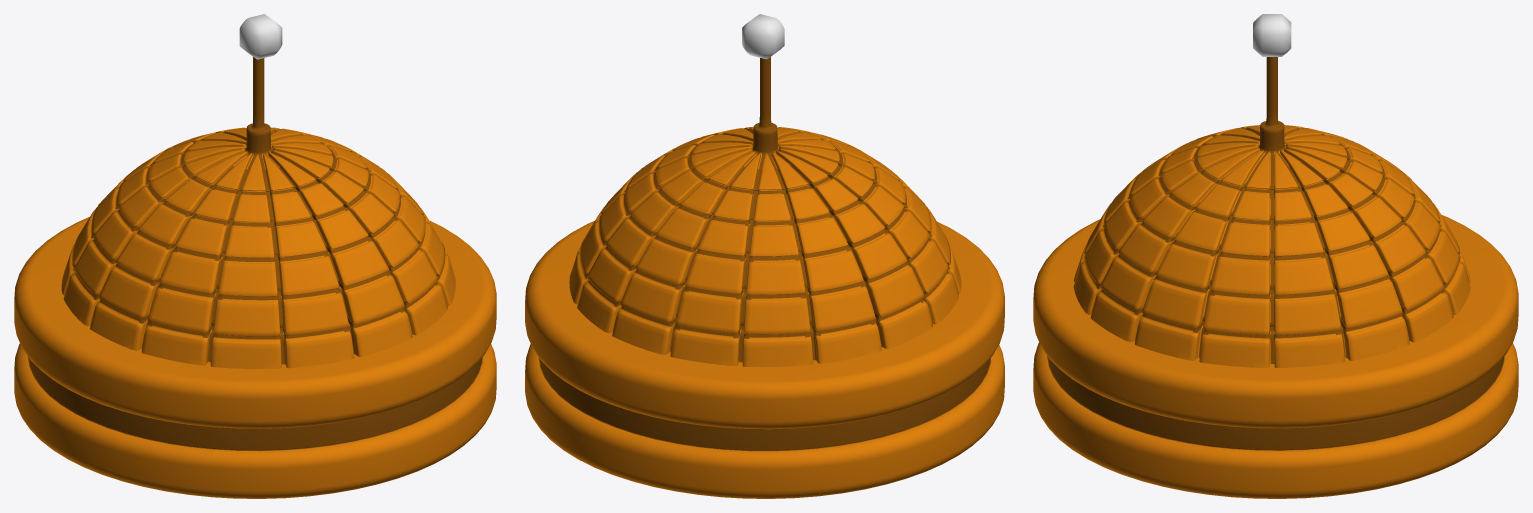
The model's file is dilei.fbx.
3 views of the same model, side by side, from view 1: azimuth 30°, elevation 25°; view 2: azimuth 150°, elevation 25°; view 3: azimuth 270°, elevation 25° (orthographic).
Parts seen in each view (by area): view 1: 球体, Cylinder.057, 立方体.001; view 2: 球体, Cylinder.057, 立方体.001; view 3: 球体, Cylinder.057, 立方体.001.
Boxes of the visible parts, bbox=[...] form: 球体: bbox=[61, 57, 455, 368]; Cylinder.057: bbox=[14, 217, 496, 498]; 立方体.001: bbox=[239, 14, 282, 59]; 球体: bbox=[569, 57, 961, 366]; Cylinder.057: bbox=[525, 221, 1004, 498]; 立方体.001: bbox=[742, 14, 784, 59]; 球体: bbox=[1073, 57, 1470, 368]; Cylinder.057: bbox=[1033, 215, 1518, 498]; 立方体.001: bbox=[1253, 14, 1291, 56].
Bounding box in the file's own units: 366 × 321 × 366.
